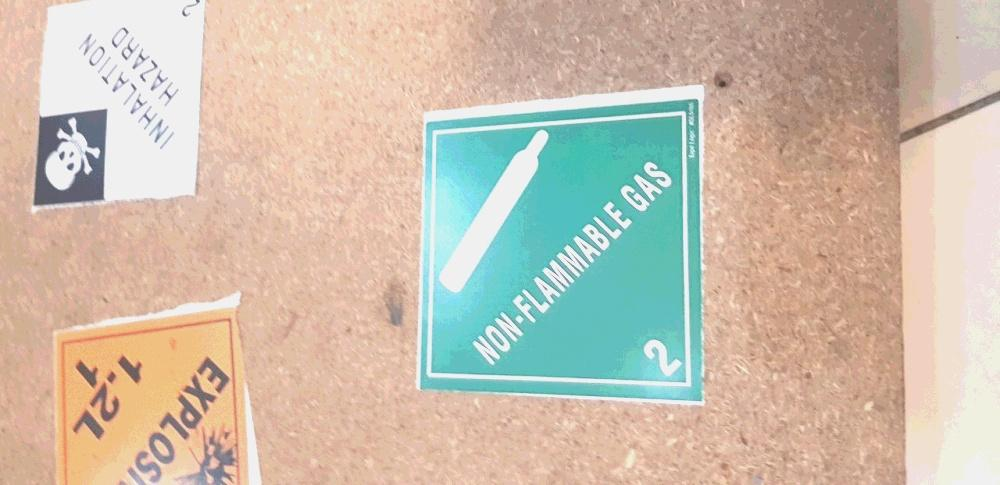explosive: (53, 310, 251, 485)
non-flammable-gas: (414, 84, 704, 405)
poison: (33, 1, 207, 210)
